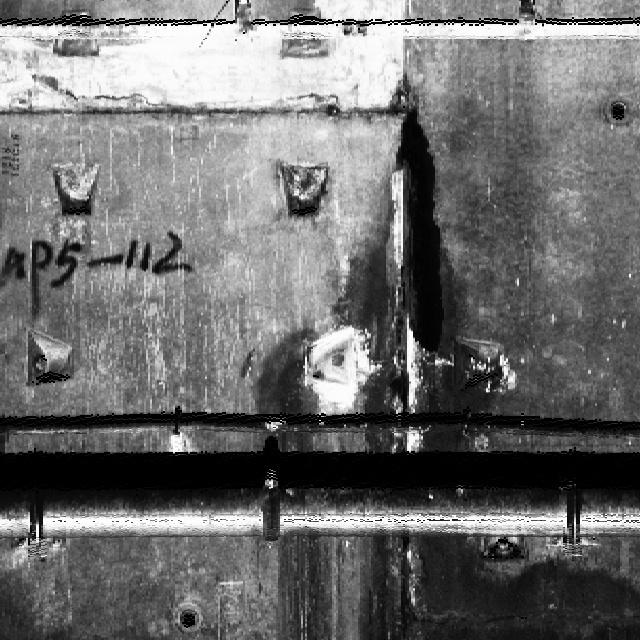leakage: (252, 102, 517, 452), (356, 521, 639, 639), (275, 530, 340, 639)
